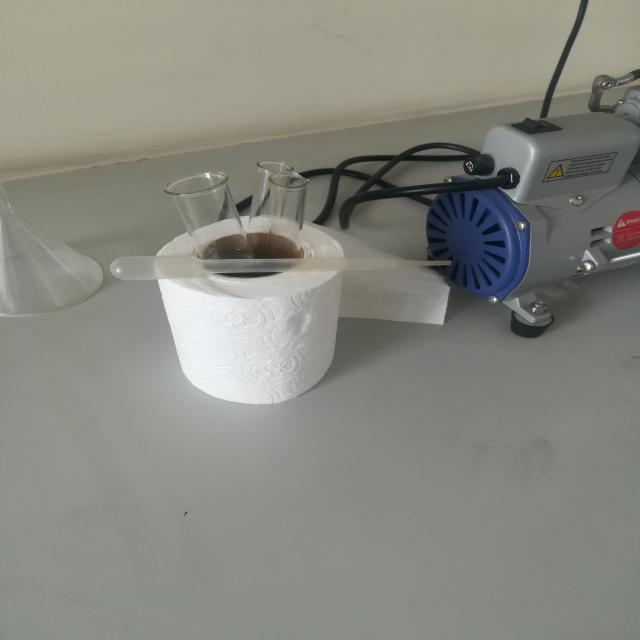Pipette: (101, 223, 486, 306)
